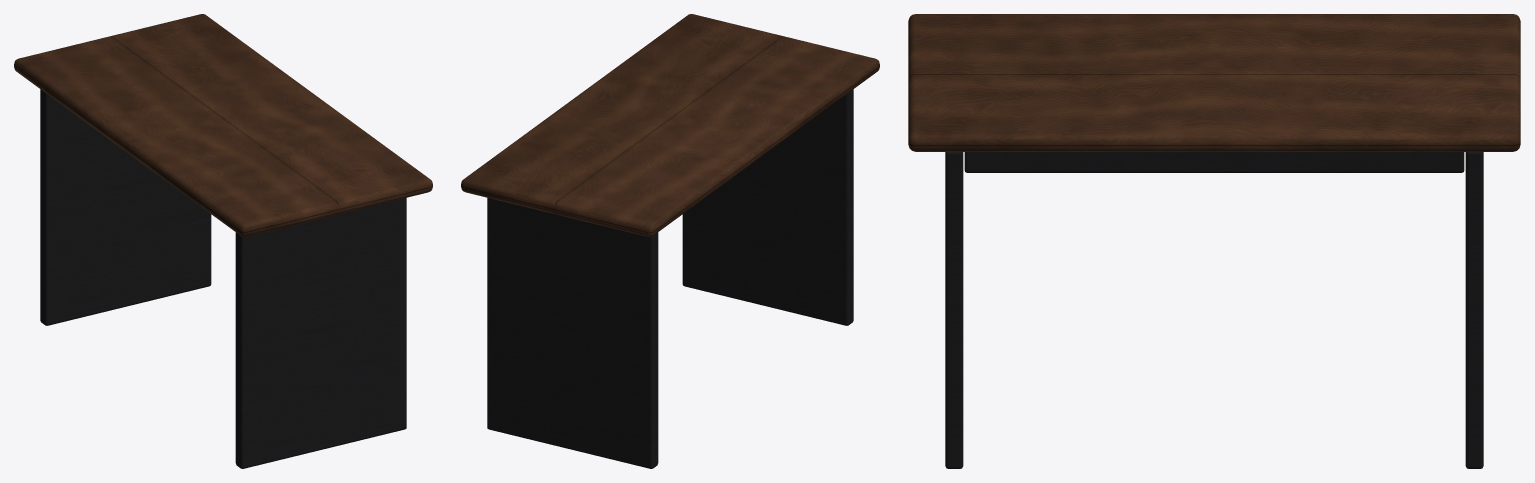
File: bed3_desk.glb
The picture shows the model from 3 angles, left to right: view 1: azimuth 30°, elevation 25°; view 2: azimuth 150°, elevation 25°; view 3: azimuth 270°, elevation 25°; orthographic projection. The views are drawn at different scales.
Visible parts, largest first — view 1: bed3_desk; view 2: bed3_desk; view 3: bed3_desk.
Part boxes in pixels (x1,y1,x2,y2): bed3_desk: [14, 14, 432, 468]; bed3_desk: [461, 14, 879, 468]; bed3_desk: [908, 14, 1520, 468].
Bounding box in the file's own units: 0.58 × 0.74 × 1.2.
2 materials, 2 textured.
